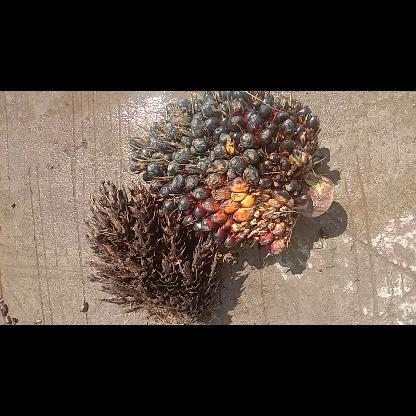Janjang kosong: (83, 180, 218, 324)
TBS mentah: (127, 90, 333, 260)
